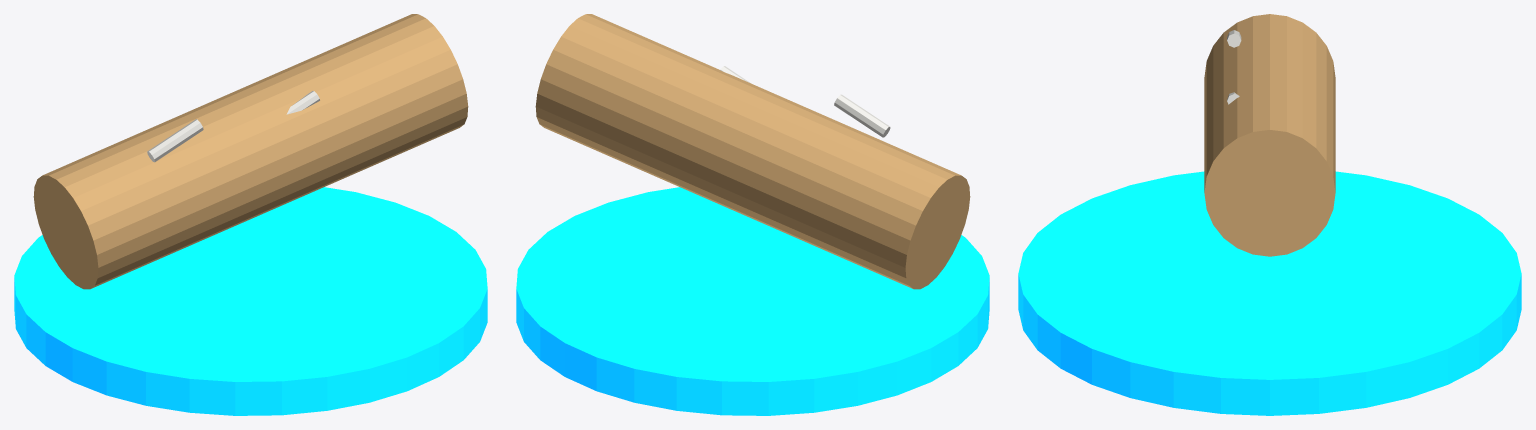
The model's file is french_baguette.glb.
3 views of the same model, side by side, from view 1: azimuth 30°, elevation 25°; view 2: azimuth 150°, elevation 25°; view 3: azimuth 270°, elevation 25° (orthographic). The views are drawn at different scales.
Visible parts, largest first — view 1: 10_10_Popular_French_Baguette_ROOT_base, 10_10_Popular_French_Baguette_part_01, 10_10_Popular_French_Baguette_part_02; view 2: 10_10_Popular_French_Baguette_ROOT_base, 10_10_Popular_French_Baguette_part_01, 10_10_Popular_French_Baguette_part_02; view 3: 10_10_Popular_French_Baguette_ROOT_base, 10_10_Popular_French_Baguette_part_01.
Part boxes in pixels (box(x1,y1,x2,y2)): 10_10_Popular_French_Baguette_ROOT_base: box(14, 187, 487, 415); 10_10_Popular_French_Baguette_part_01: box(33, 14, 468, 289); 10_10_Popular_French_Baguette_part_02: box(147, 119, 203, 162); 10_10_Popular_French_Baguette_ROOT_base: box(516, 187, 989, 415); 10_10_Popular_French_Baguette_part_01: box(535, 14, 970, 289); 10_10_Popular_French_Baguette_part_02: box(834, 94, 890, 137); 10_10_Popular_French_Baguette_ROOT_base: box(1018, 171, 1521, 415); 10_10_Popular_French_Baguette_part_01: box(1204, 14, 1335, 256).
Size of the model in its own units: 0.76 by 0.4508 by 0.76.
